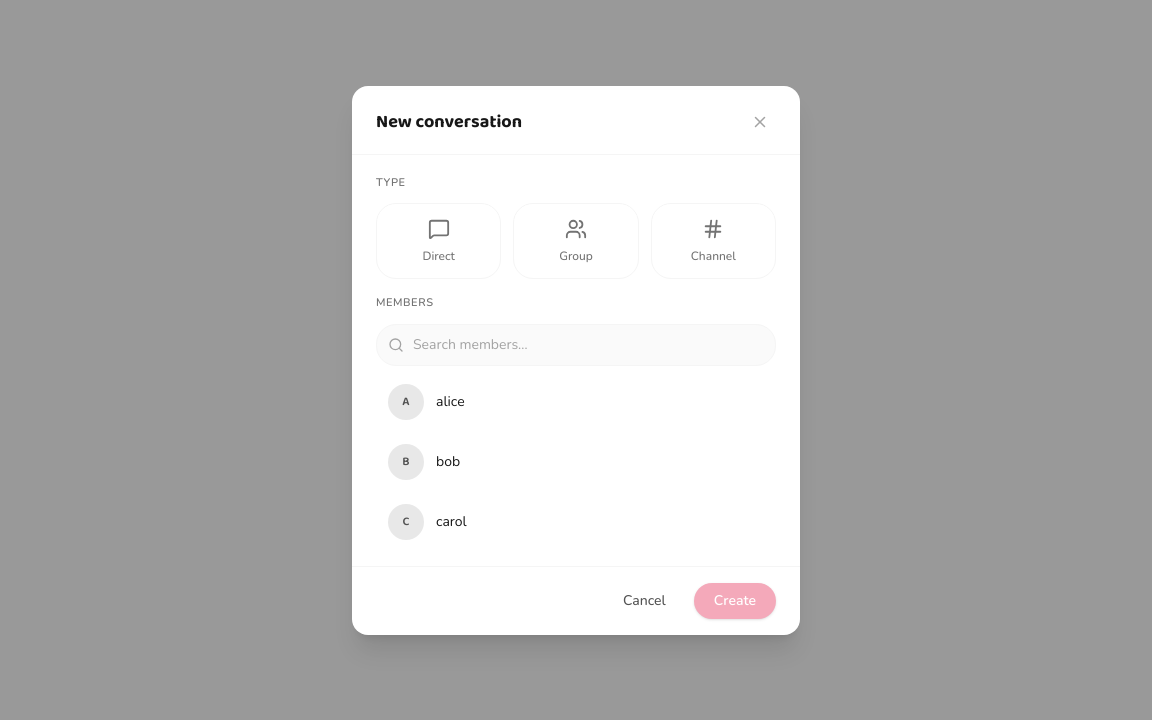
Test: ConversationModalCreation › can remove a selected member via pill X button
The width and height of the screenshot is (1152, 720).
Click the button "Group": (576, 241) [513,203,639,279]
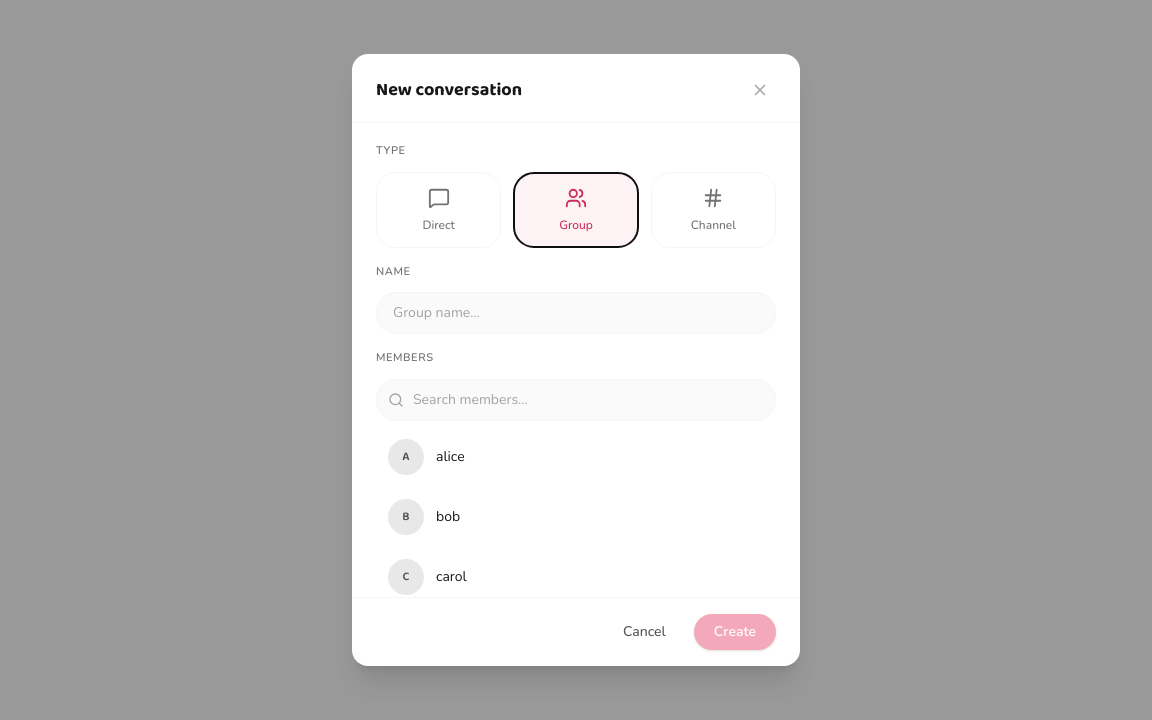
In the field with placeholder "Group name…": (576, 313) [376,292,776,334], type "Team"
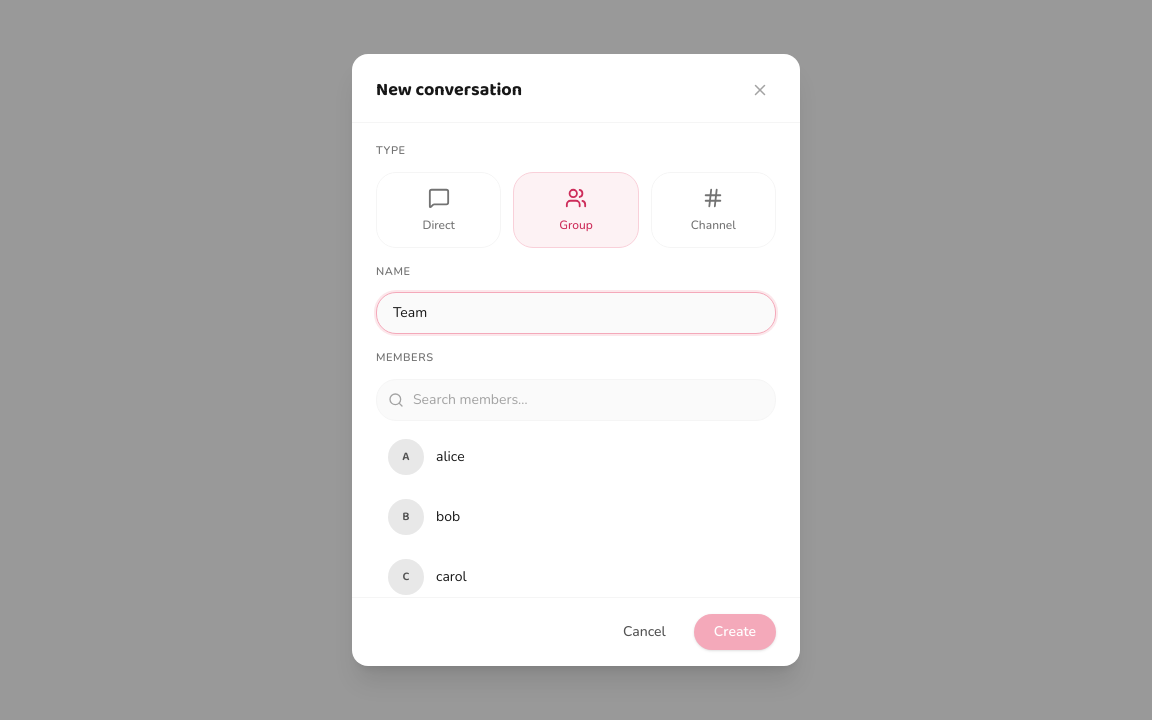
Click the text "alice": (450, 456) [436,446,465,466]
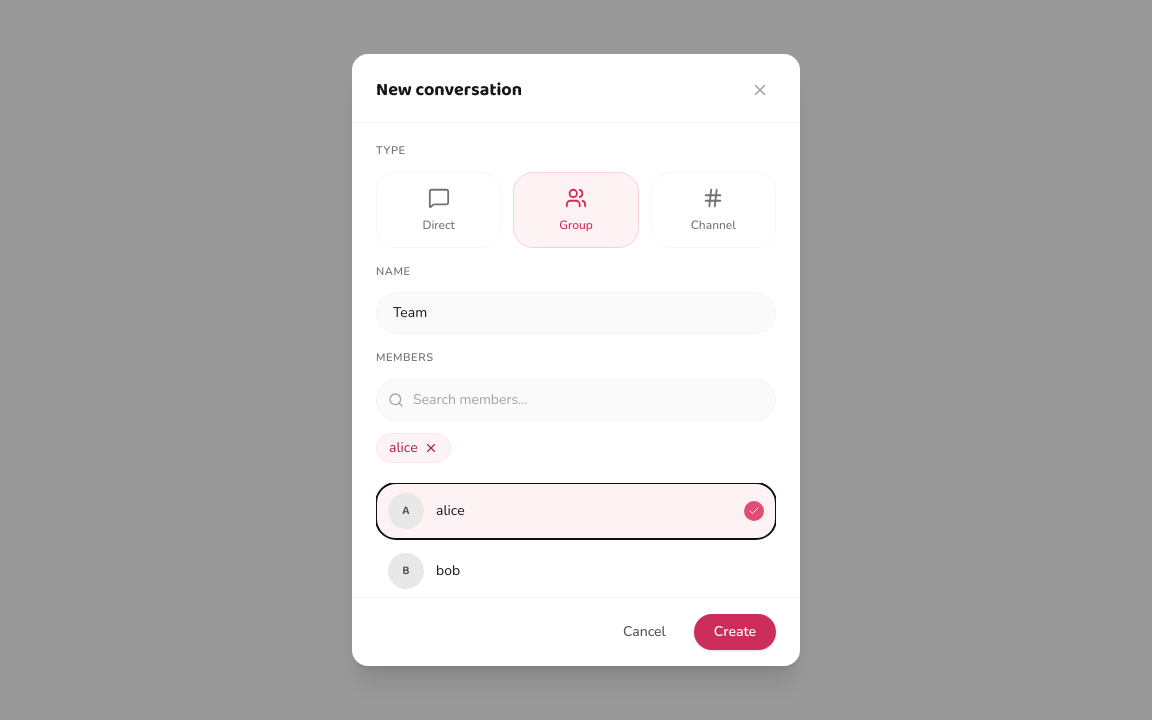
expect the text "alice" is shown 2 times: met, box [376,432,451,462]; [436,500,465,520]
// Click X on pill
Click the button without text below "Members": (431, 448) [424,440,438,454]
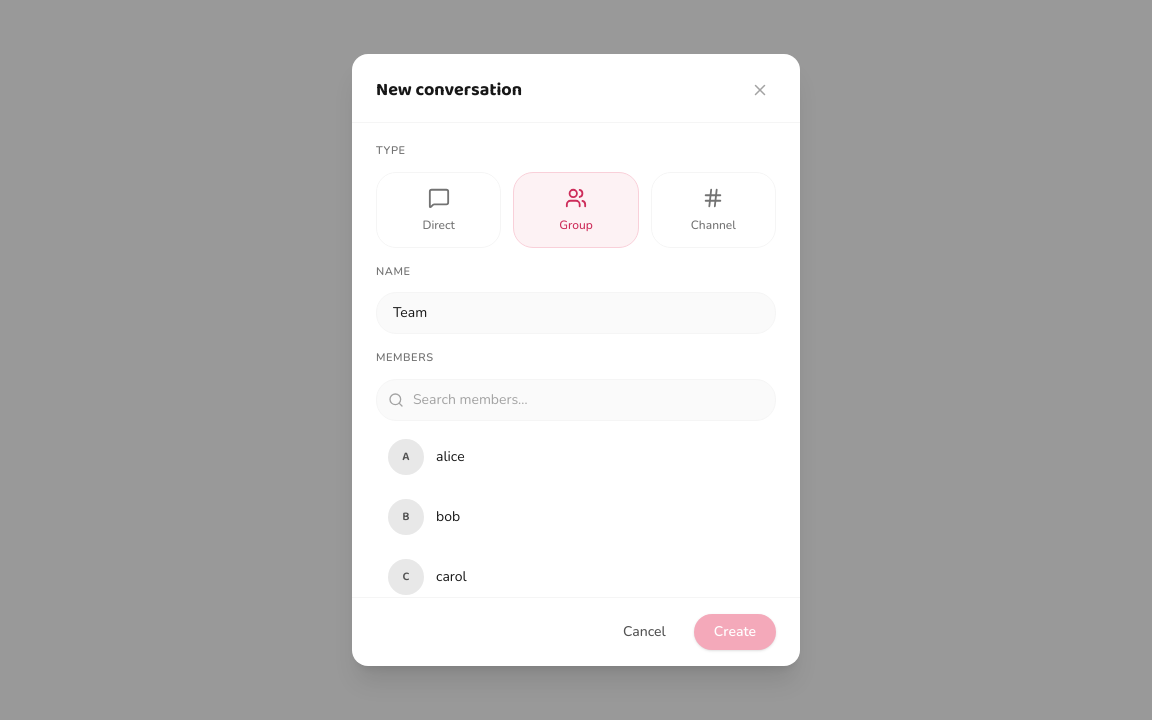
expect the text "alice" is shown once: met, box [436,446,465,466]
